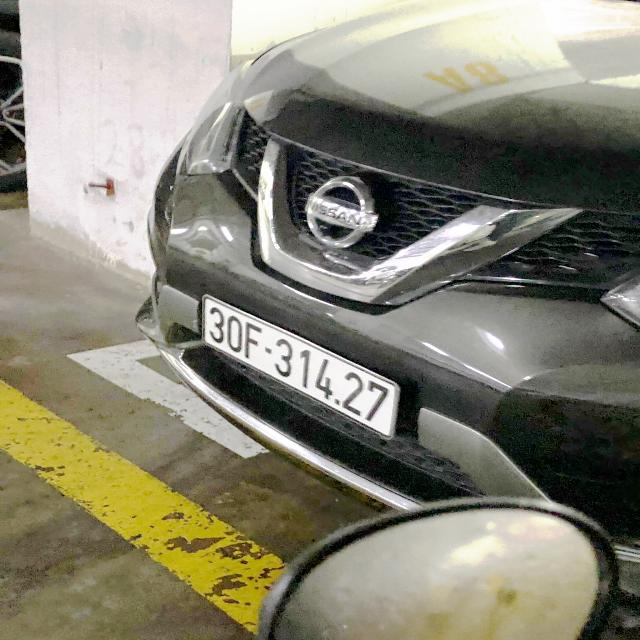license_plate: (193, 289, 406, 451)
